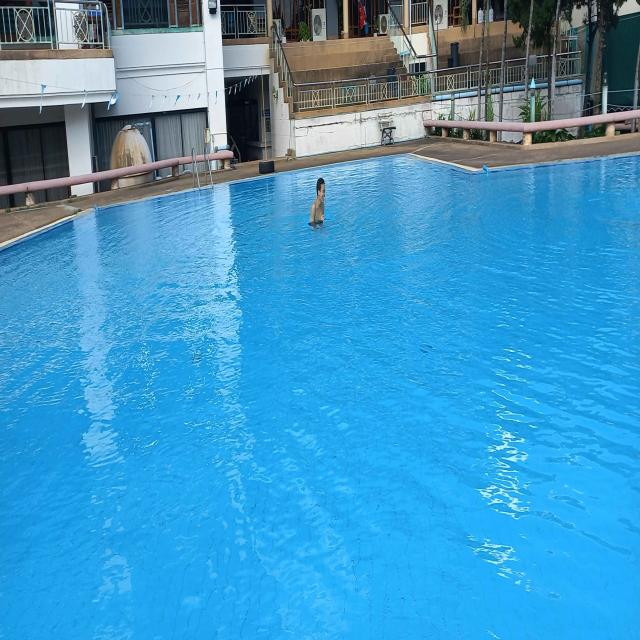Swimming: (307, 171, 329, 234)
